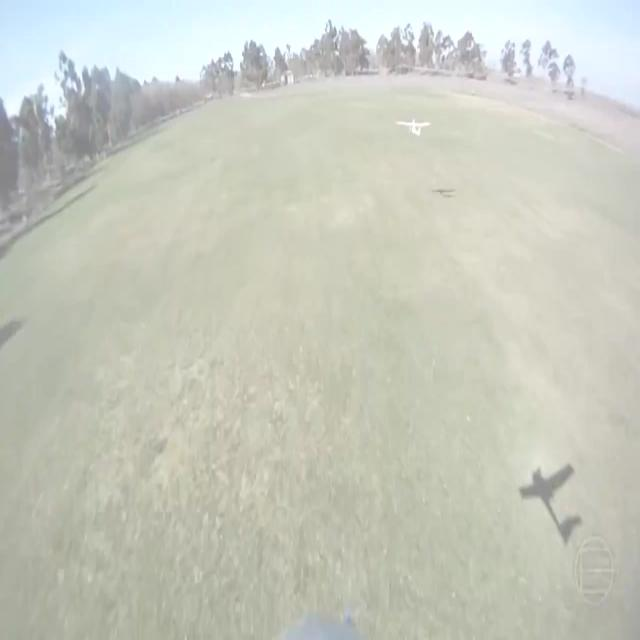iha: (395, 50, 432, 74)
